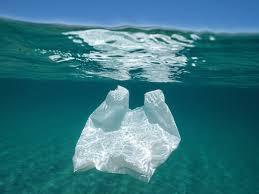Trash: (68, 78, 193, 184)
